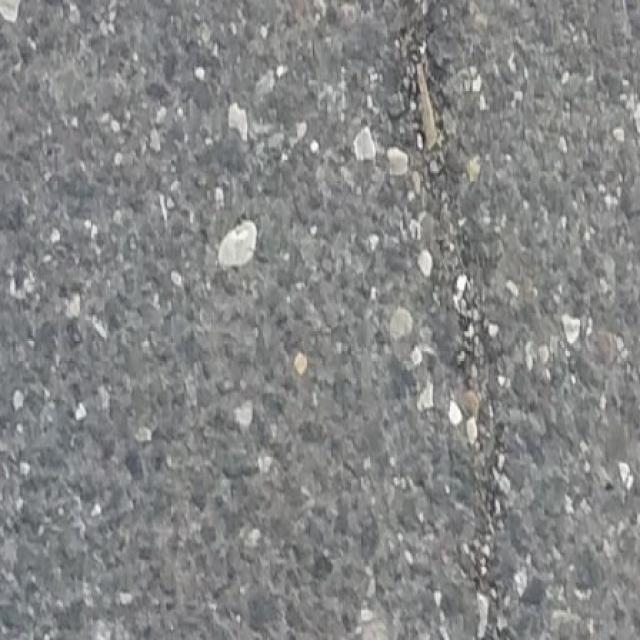Horizontal Crack: (394, 0, 510, 640)
